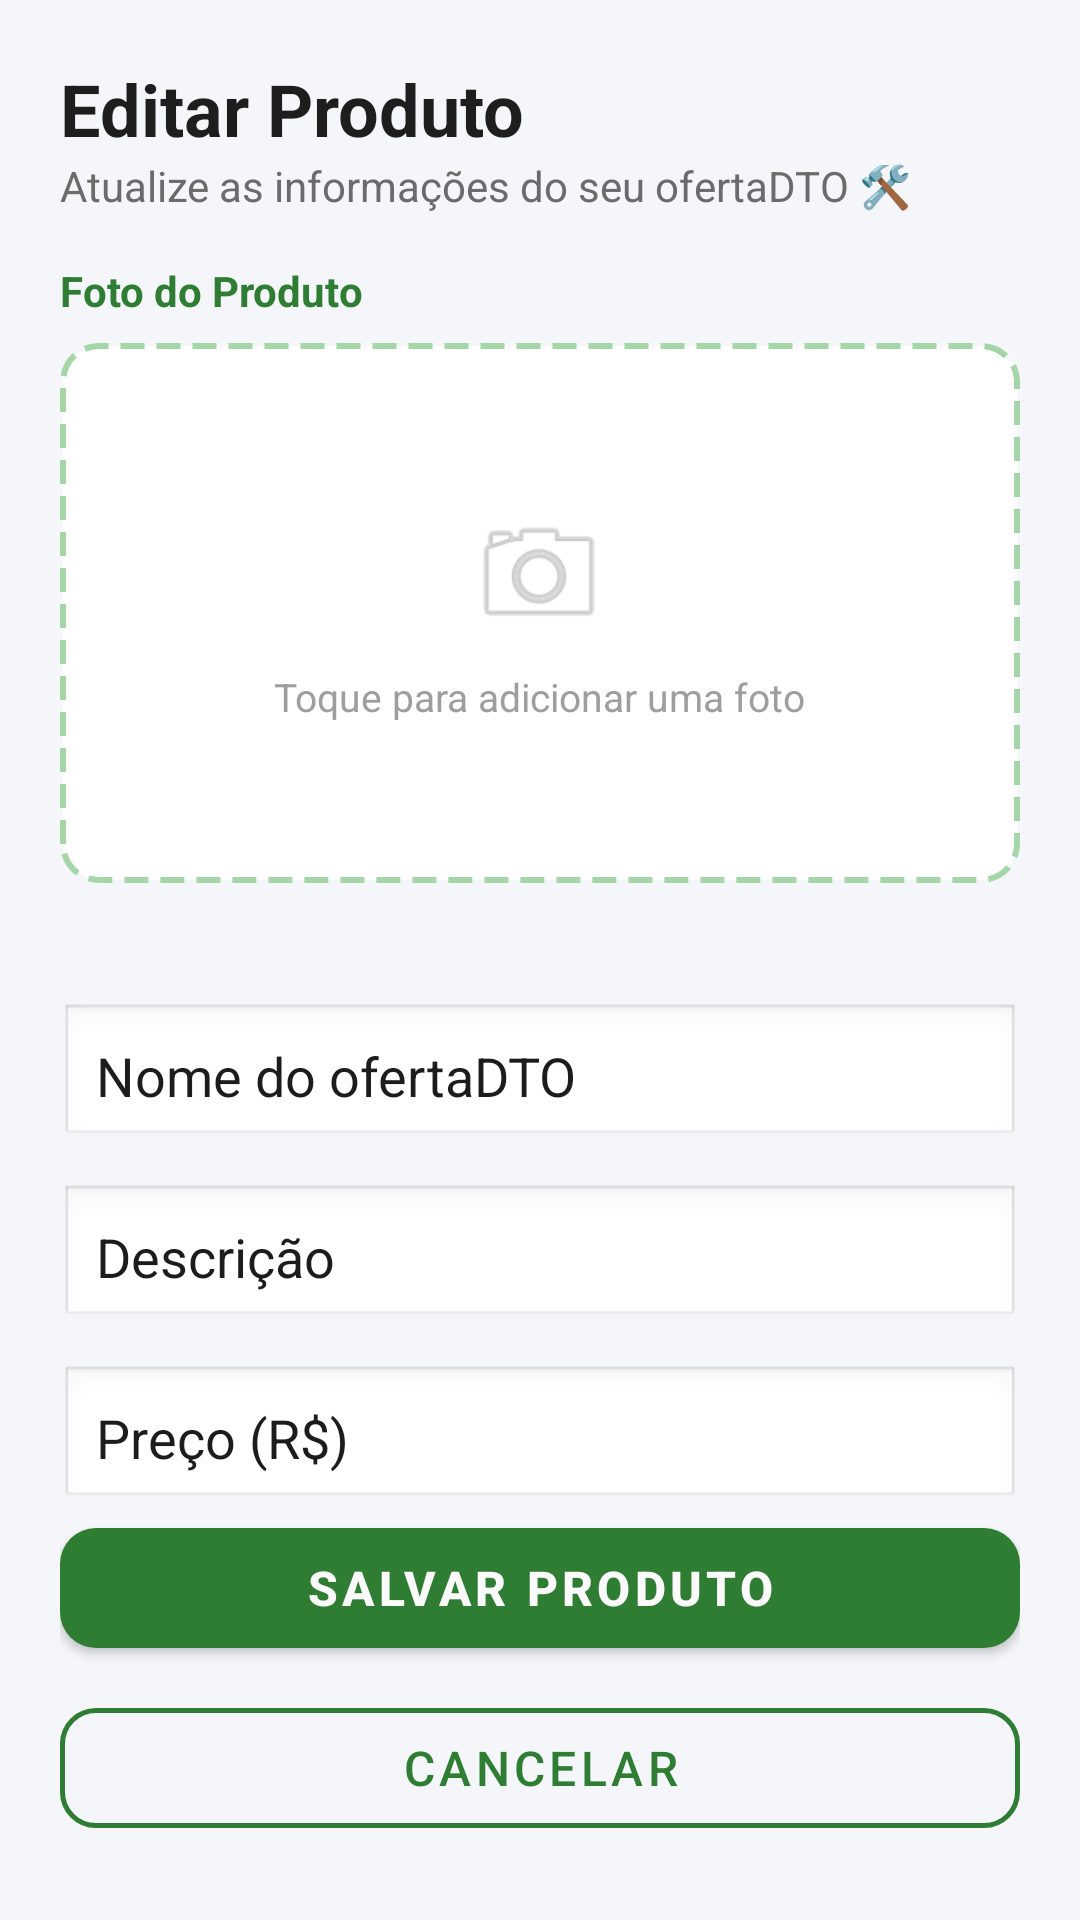

Screen size 1080*1920. Icon name, then its center in pixels as point (x, y):
camera: point (539, 571)
